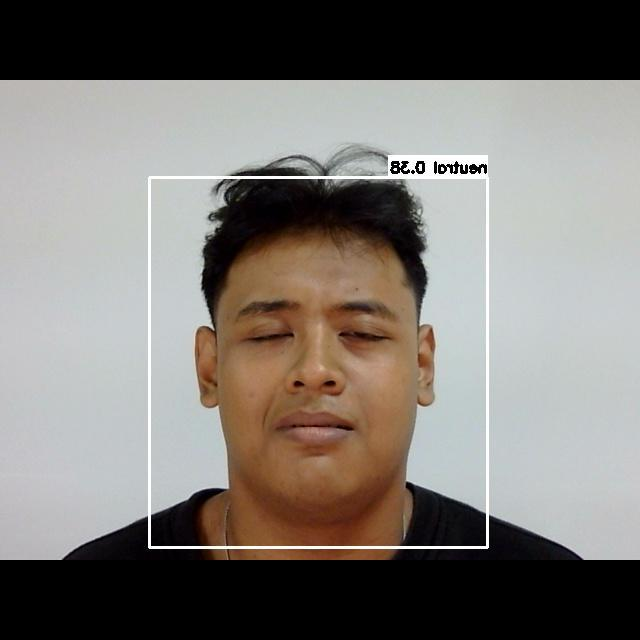Fear: (219, 273, 419, 486)
